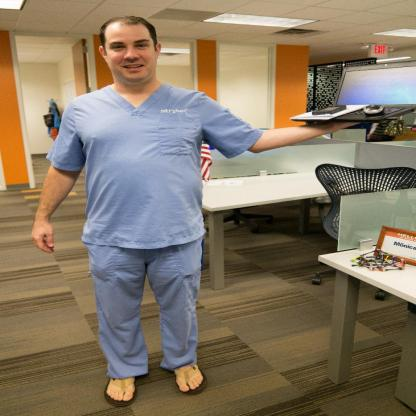board: (289, 60, 414, 122)
